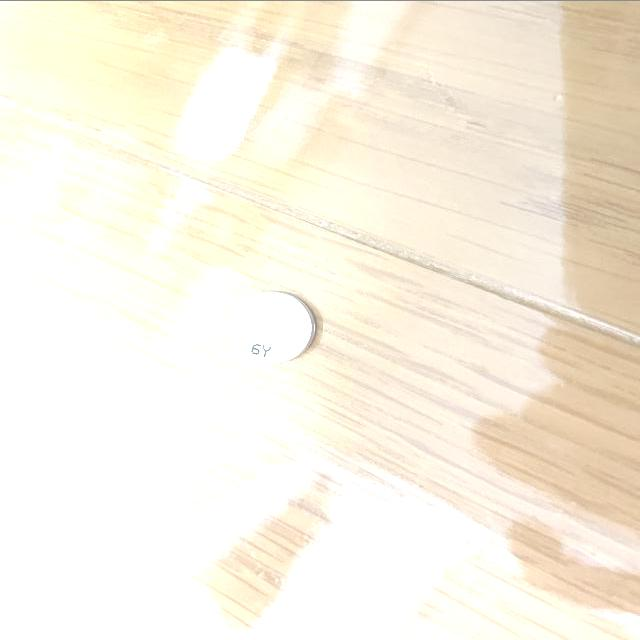COIN: (227, 290, 319, 364)
